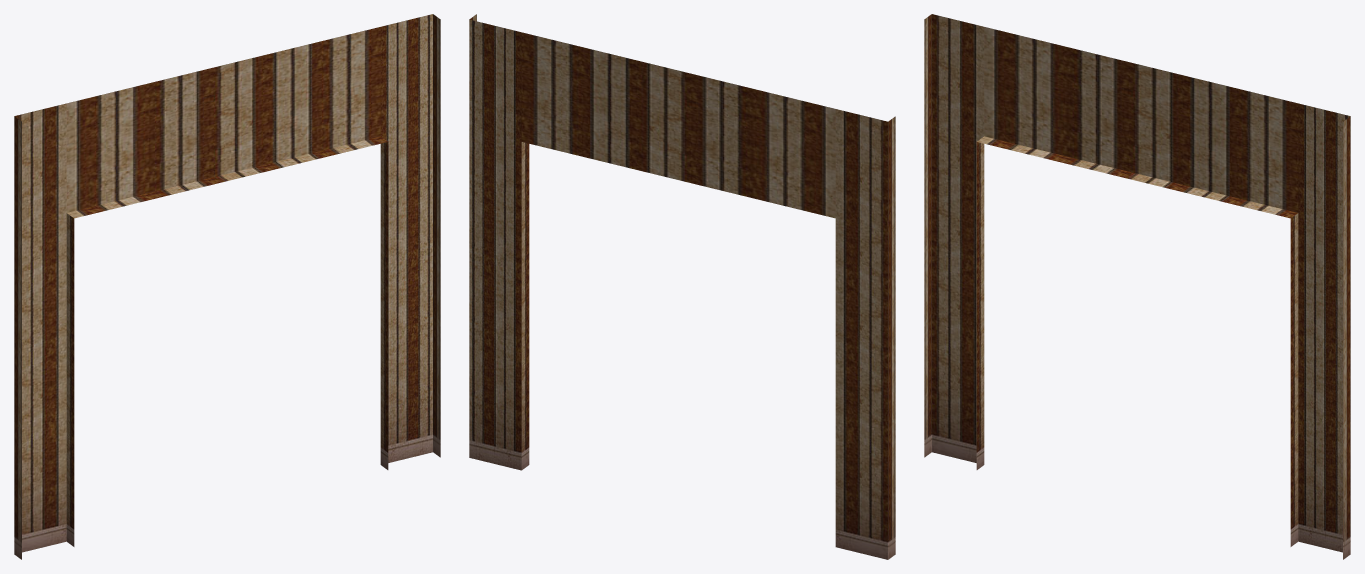
File: door-frame_4x4_W.obj
3 renders of one model, left to right at view 1: azimuth 30°, elevation 25°; view 2: azimuth 150°, elevation 25°; view 3: azimuth 330°, elevation 25°, orthographic.
Parts seen in each view (by area): view 1: door-frame_4x4_W_Cube.036; view 2: door-frame_4x4_W_Cube.036; view 3: door-frame_4x4_W_Cube.036.
Part boxes in pixels (x1,y1,x2,y2): door-frame_4x4_W_Cube.036: (14, 14, 440, 559); door-frame_4x4_W_Cube.036: (469, 14, 895, 559); door-frame_4x4_W_Cube.036: (924, 14, 1350, 559).
Size of the model in its own units: 4 by 4 by 0.125.
